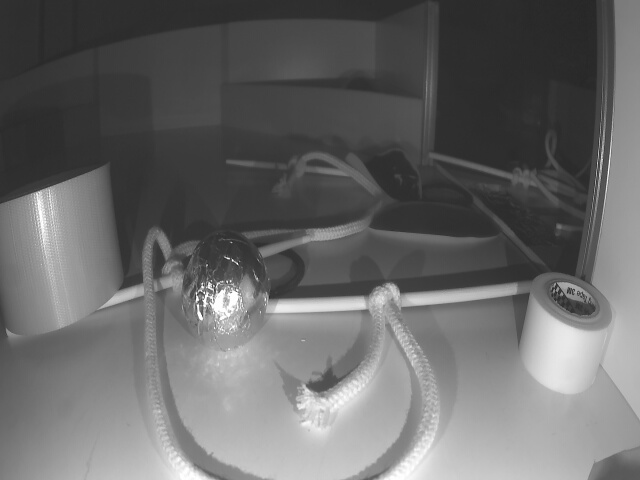Live: (183, 233, 265, 342)
Point: (225, 80, 421, 164)
